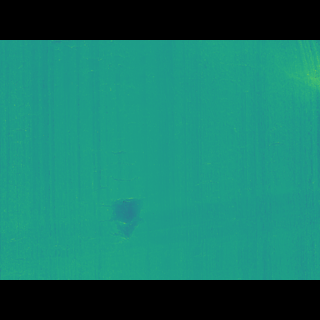Loch: (91, 181, 151, 221)
